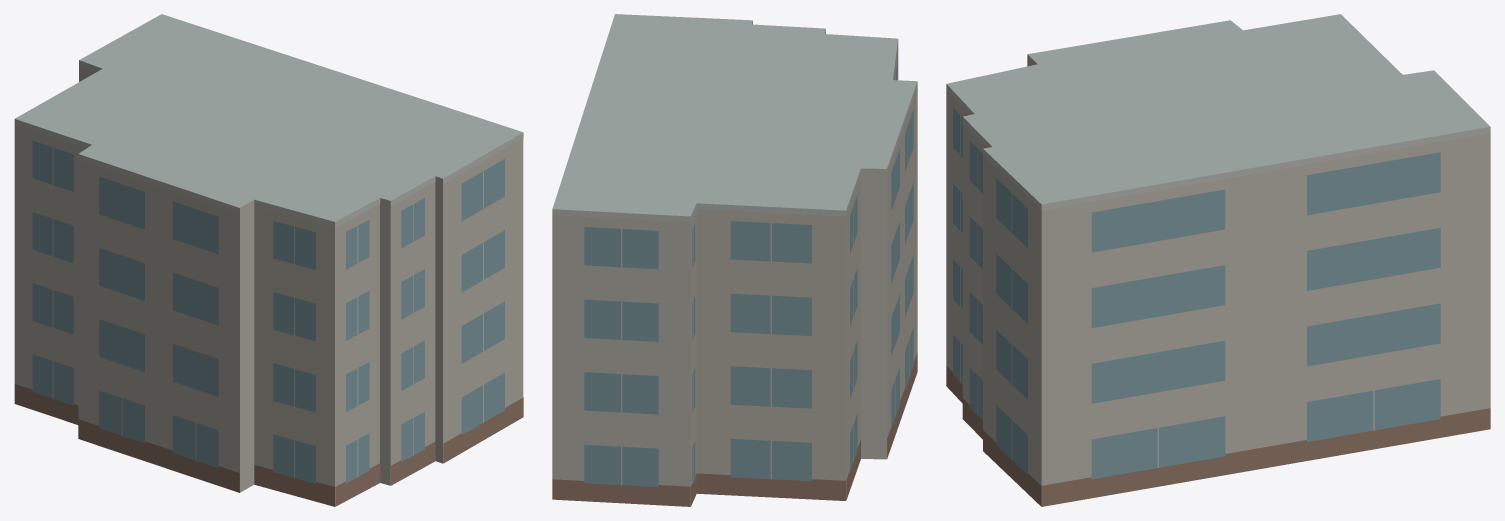
The model's file is survey-upis-32666468.glb.
3 views of the same model, side by side, from view 1: azimuth 30°, elevation 25°; view 2: azimuth 150°, elevation 25°; view 3: azimuth 270°, elevation 25° (orthographic). The views are drawn at different scales.
Parts seen in each view (by area): view 1: survey-upis-32666468.tmp; view 2: survey-upis-32666468.tmp; view 3: survey-upis-32666468.tmp.
Boxes of the visible parts, bbox=[...] form: survey-upis-32666468.tmp: bbox=[14, 14, 523, 506]; survey-upis-32666468.tmp: bbox=[552, 14, 917, 506]; survey-upis-32666468.tmp: bbox=[946, 14, 1490, 506].
Bounding box in the file's own units: 16.49 × 12.2 × 19.9.
